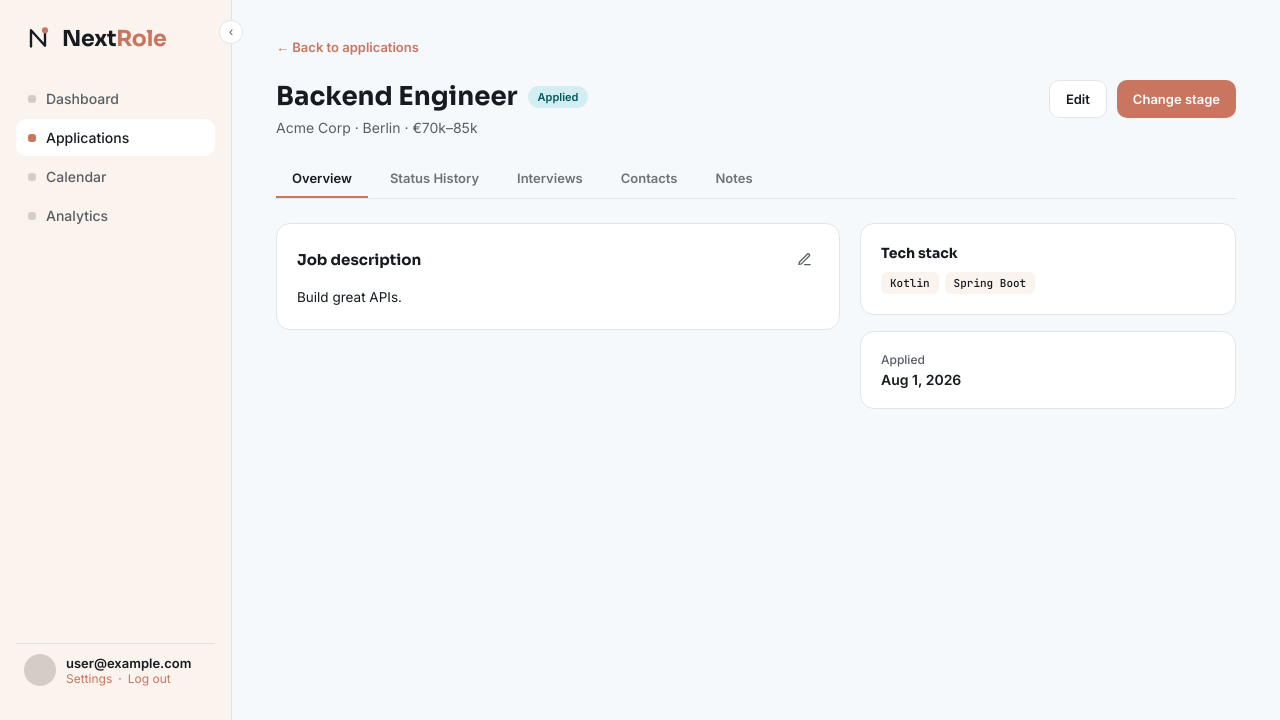
Test: ApplicationDetailPage › switches to the status history tab
Expected: the heading "Backend Engineer" is shown, [276,80,518,113]
Click the text "Status History" at (434, 178), box [390,170,479,186]
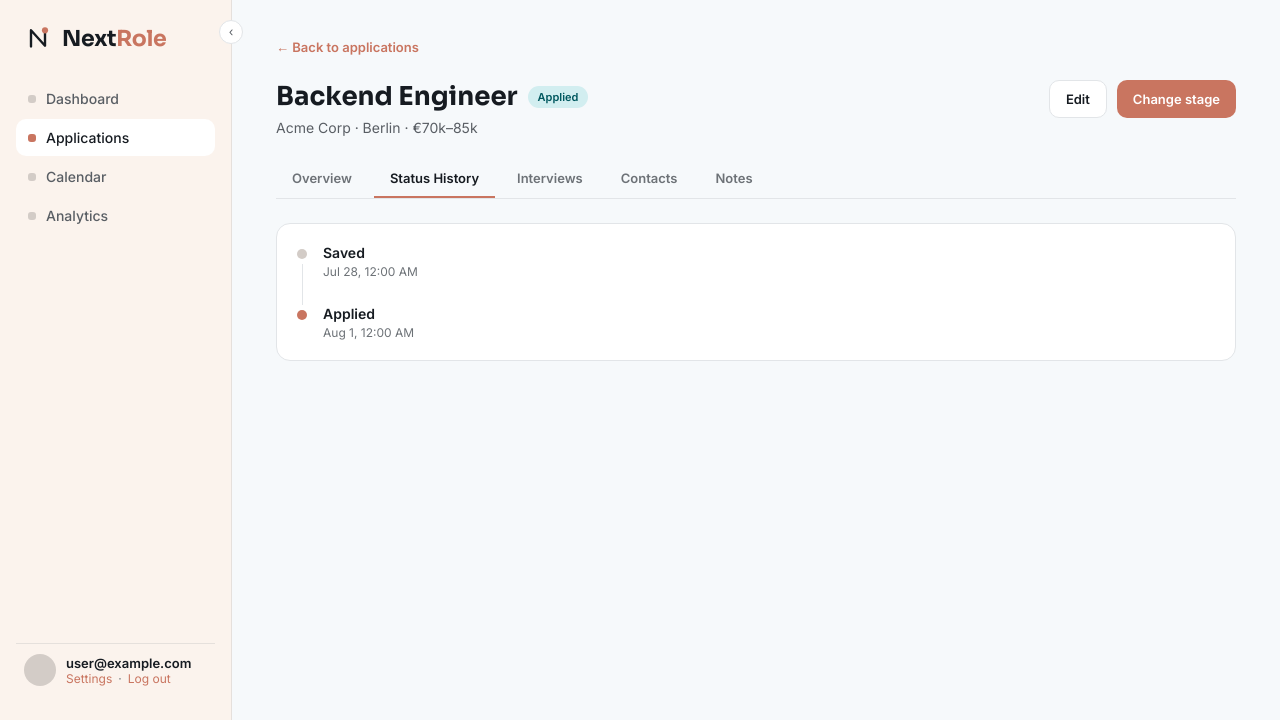
Expected: the text "Applied" next to "Backend Engineer" is shown, [538,90,578,104]
Expected: the text "Saved" is shown, [323,244,365,261]
